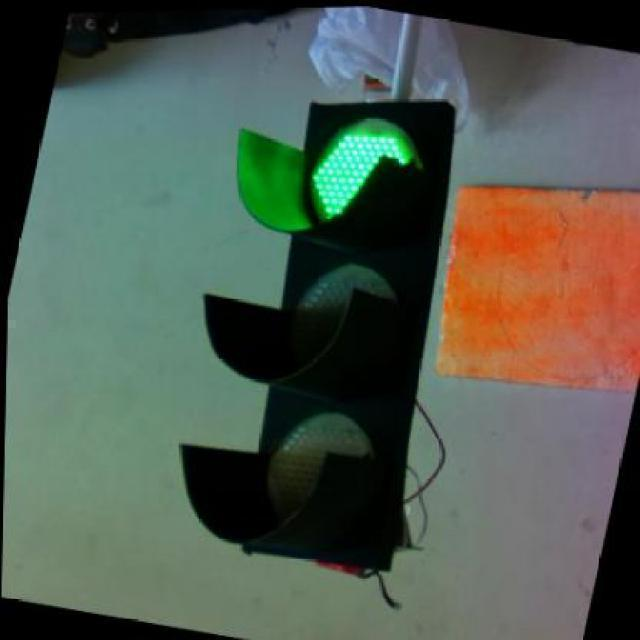green_light: (181, 99, 453, 568)
